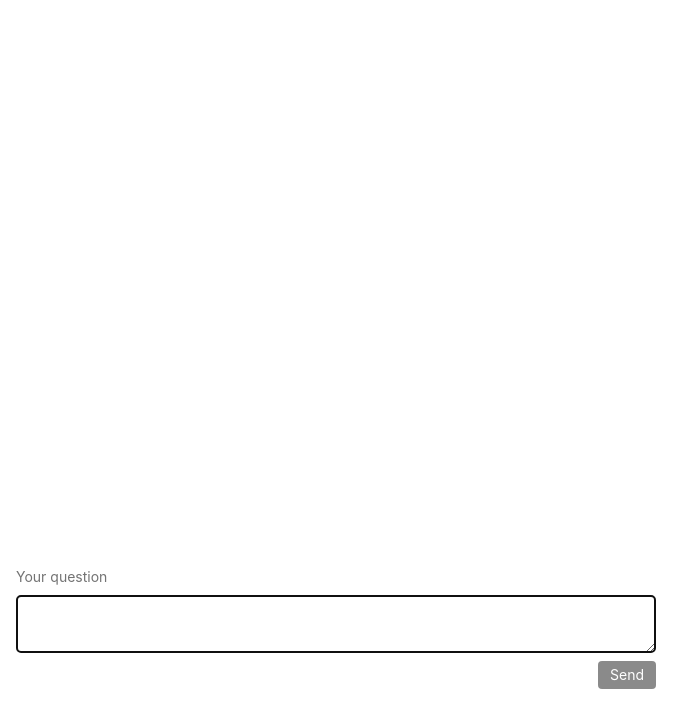
Test case: Chat (jsdom) › shows generic copy on HTTP 500
Type "q" into the text box labelled "Your question" at (336, 624), box x1=16 y1=595 x2=656 y2=653
Then press Enter
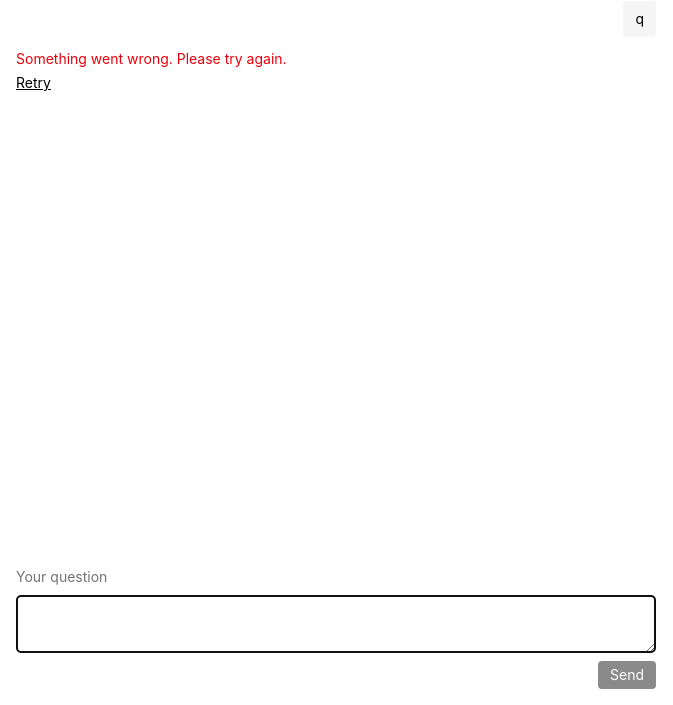
Result: the text "Something went wrong. Please try again." is shown at x1=16 y1=49 x2=287 y2=69
